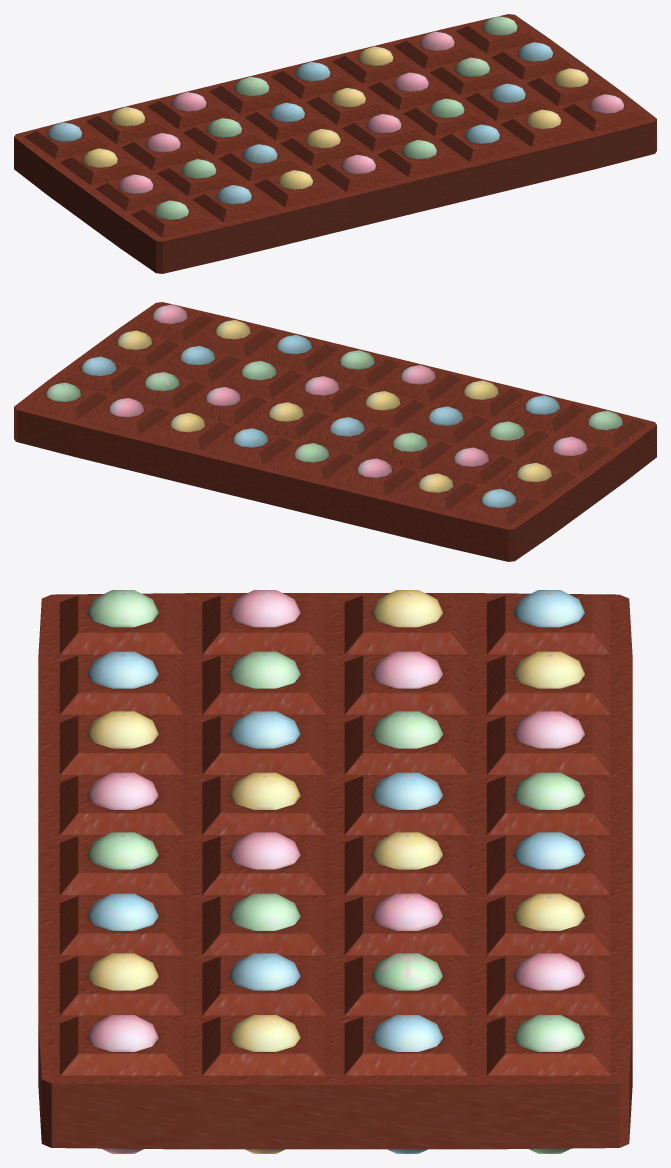
The model's file is candyPlatform.glb.
3 views of the same model, one above another, from view 1: azimuth 30°, elevation 25°; view 2: azimuth 150°, elevation 25°; view 3: azimuth 270°, elevation 25° (orthographic). The views are drawn at different scales.
Parts seen in each view (by area): view 1: candyPlatform; view 2: candyPlatform; view 3: candyPlatform.
Boxes of the visible parts, box(x1,y1,x2,y2) form: candyPlatform: box(14, 14, 656, 273); candyPlatform: box(14, 302, 656, 561); candyPlatform: box(38, 590, 632, 1153).
Size of what is drawn, in the model's own units: 8.18 by 1.02 by 4.18.
1 material, 1 textured.
